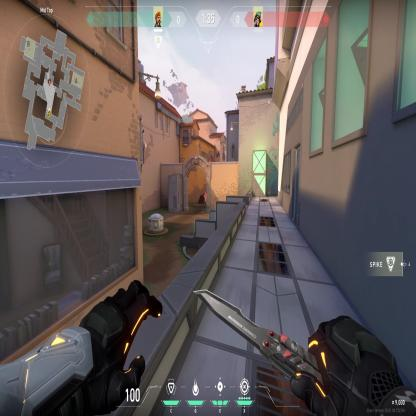enemy: (202, 190, 207, 213)
